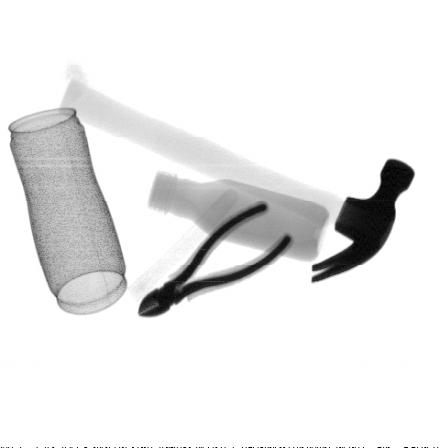Hammer: (57, 77, 417, 284)
Pliers: (137, 200, 294, 318)
